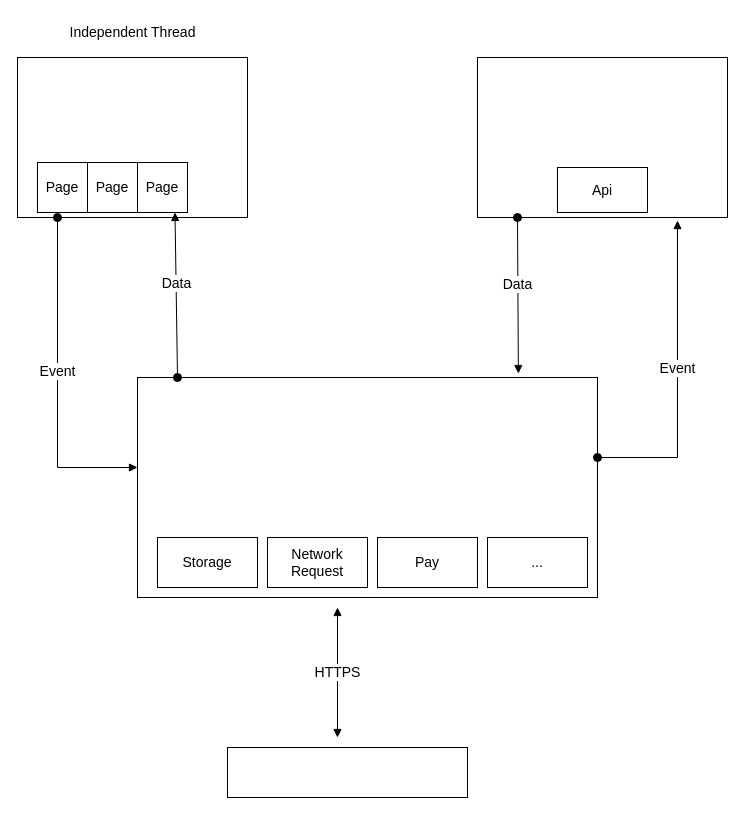
The diagram is 745 pixels wide and 815 high, and some of its shapes have lost their labels. Each missing label, with the box of its shape:
MP（Web View）: (16, 56, 248, 218)
Native App (JsBridge): (136, 376, 598, 598)
Service: (476, 56, 728, 218)
Third Party Services: (226, 746, 468, 798)
